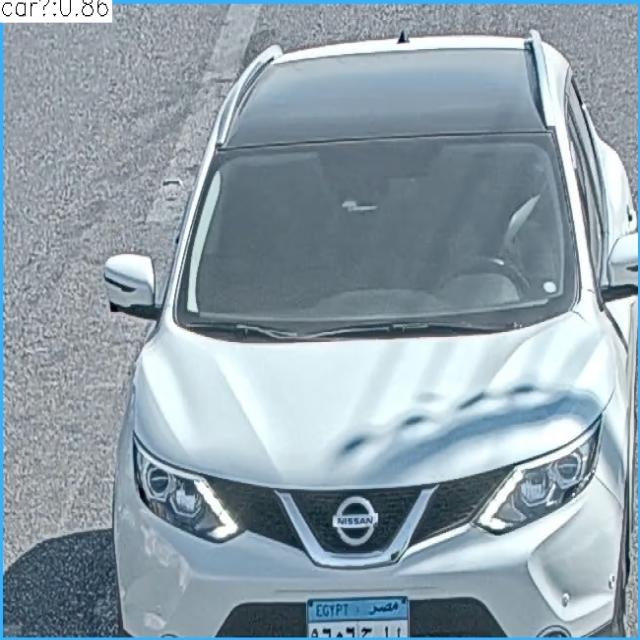windshield: (181, 144, 583, 317)
